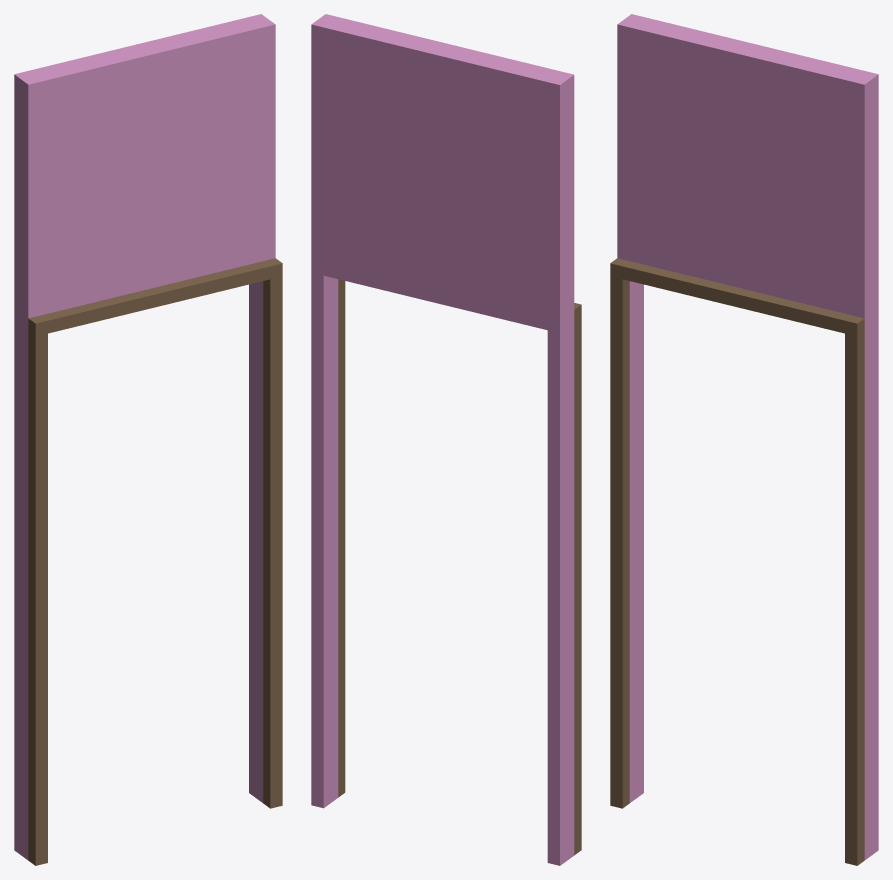
The model's file is Mesh_DoorHole_07.fbx.
The picture shows the model from 3 angles, left to right: view 1: azimuth 30°, elevation 25°; view 2: azimuth 150°, elevation 25°; view 3: azimuth 330°, elevation 25°; orthographic projection.
Parts seen in each view (by area): view 1: Mesh_DoorHole_07; view 2: Mesh_DoorHole_07; view 3: Mesh_DoorHole_07.
Part boxes in pixels (x1,y1,x2,y2): Mesh_DoorHole_07: (14,14,282,865); Mesh_DoorHole_07: (311,14,581,865); Mesh_DoorHole_07: (610,14,878,865).
Bounding box in the file's own units: 1 × 3 × 0.15.
